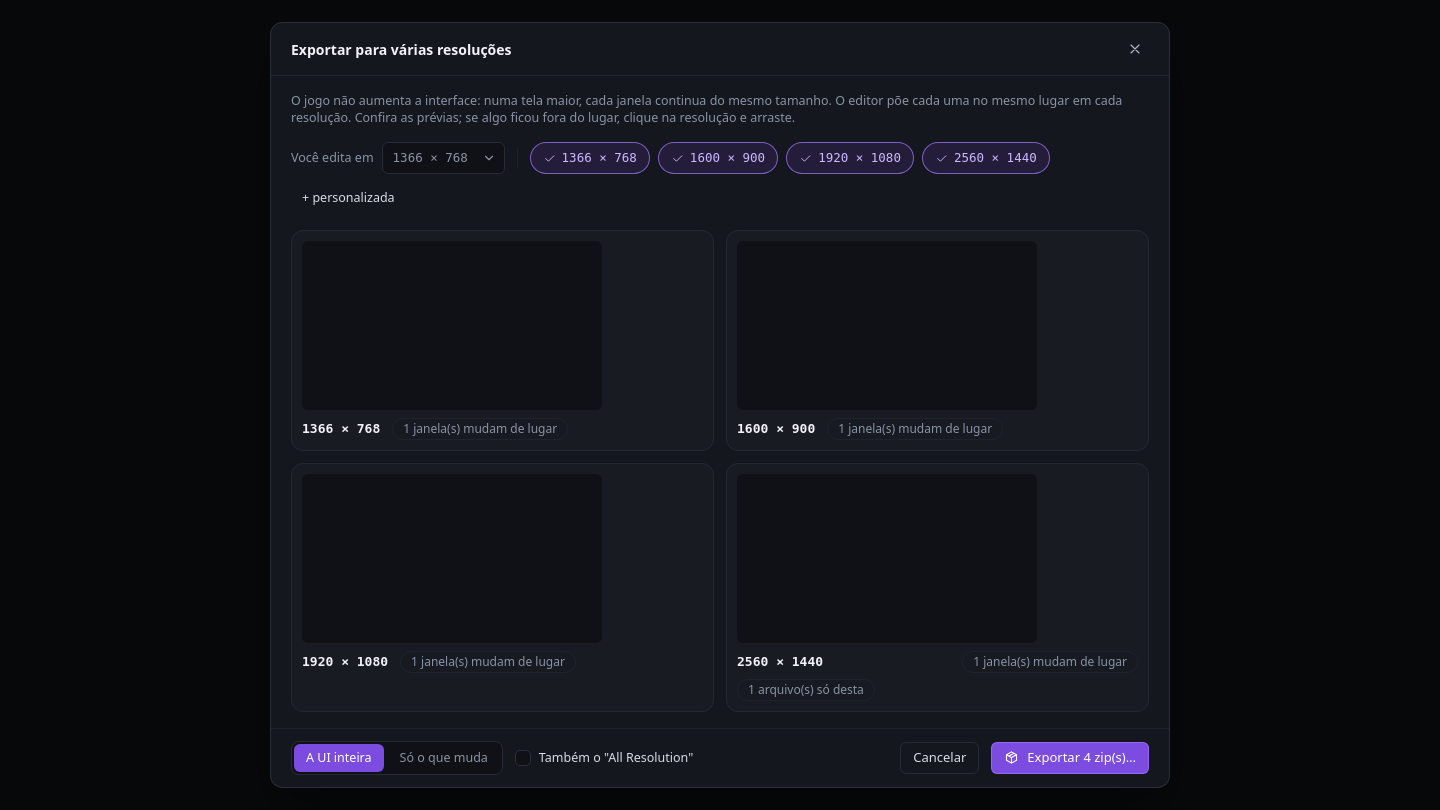
Test: exportar para várias resoluções › desmarcar e "+ personalizada" mudam as resoluções (e a escolha fica guardada)
Expected: the element with test id "resolutions-dialog" is shown, [291,92,1149,712]
Expected: the button with test id "resolution-card-2560x1440" is shown, [726,463,1149,712]
Click the button with test id "resolution-chip-1600x900". click: (718, 158)
box: [658,142,778,174]
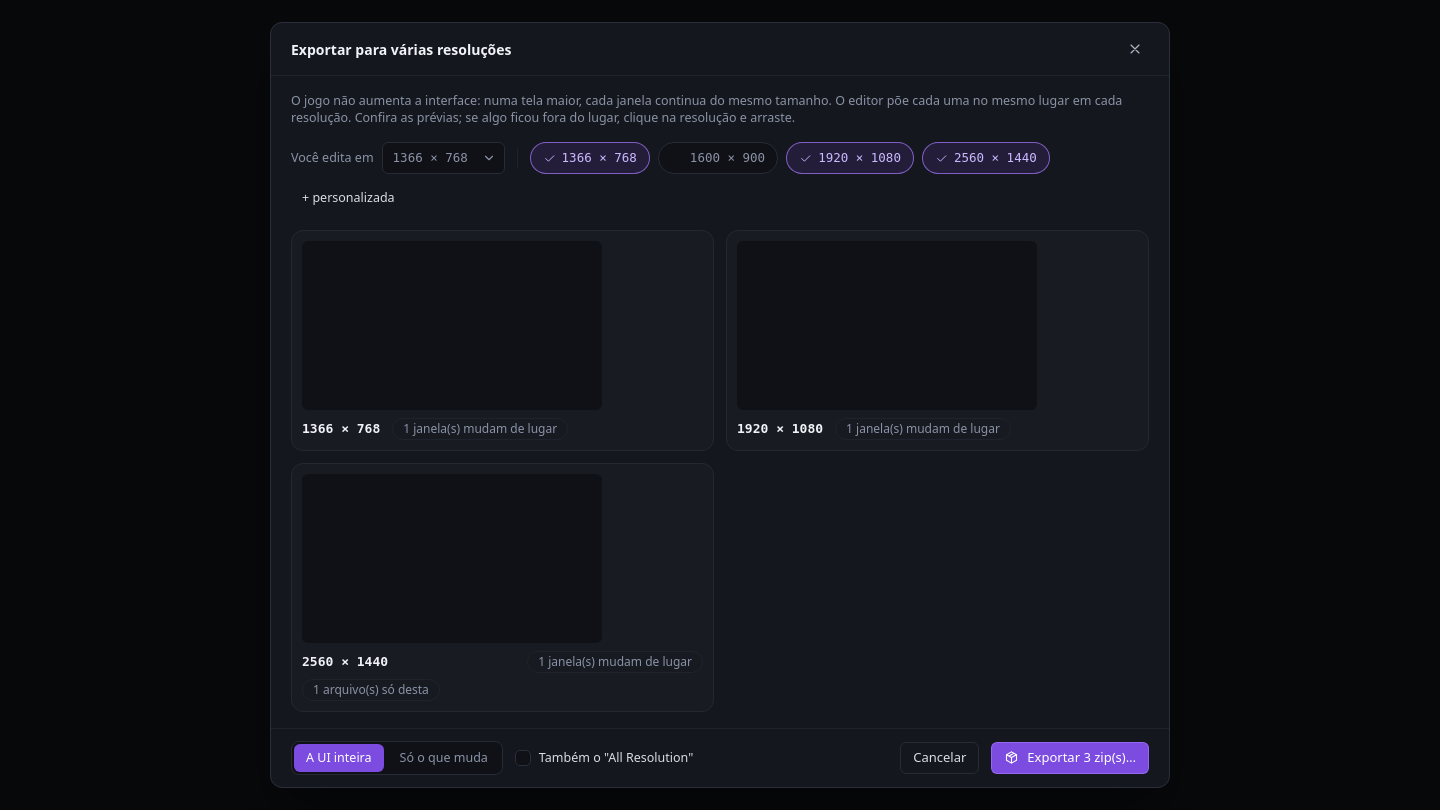
Expected: the button with test id "resolution-card-1600x900" is gone
Click the button with test id "resolution-custom". click: (348, 198)
box: [291,182,406,214]
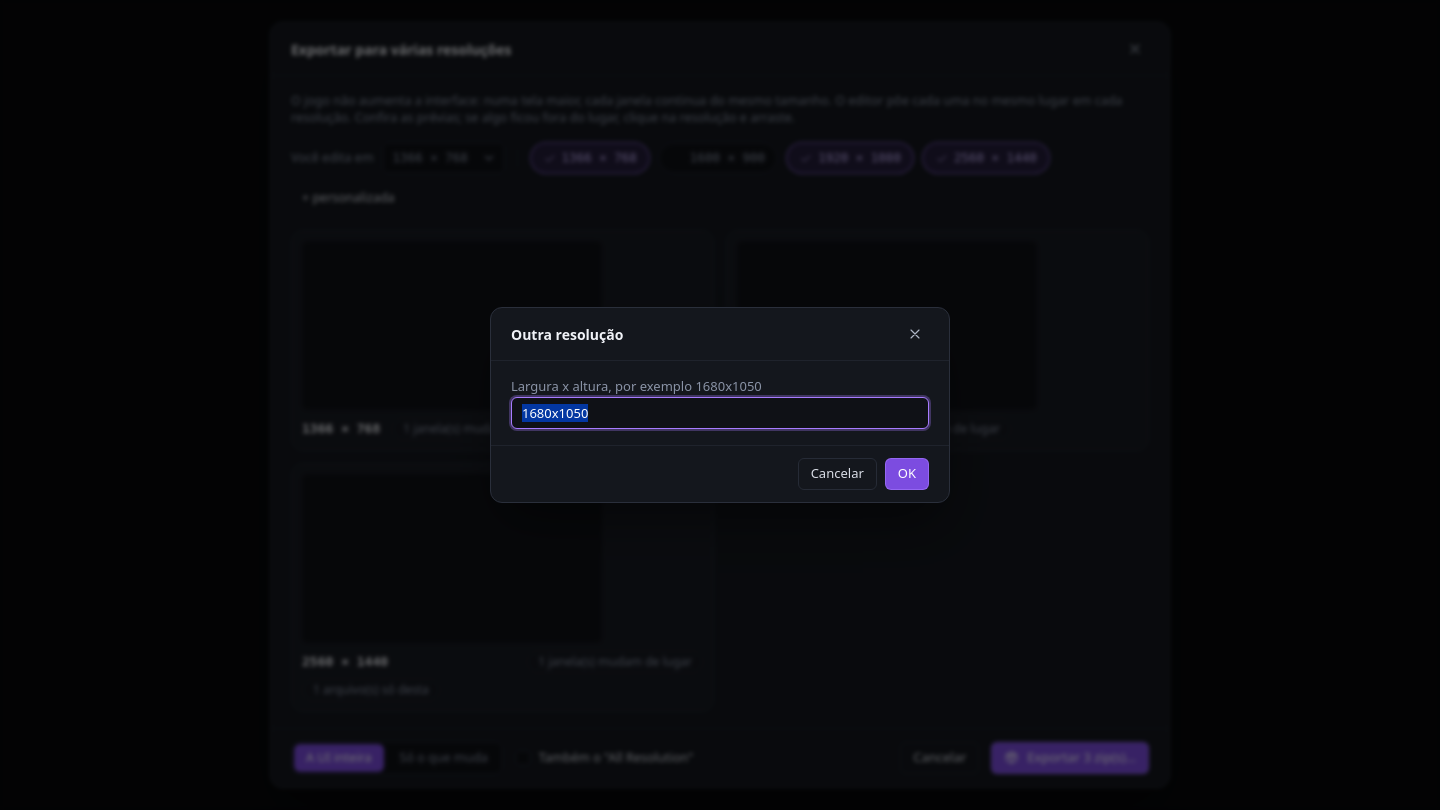
Replace the text in the field showing "1680x1050" with "1440 x 900". click: (720, 413)
box: [511,397,929,429]
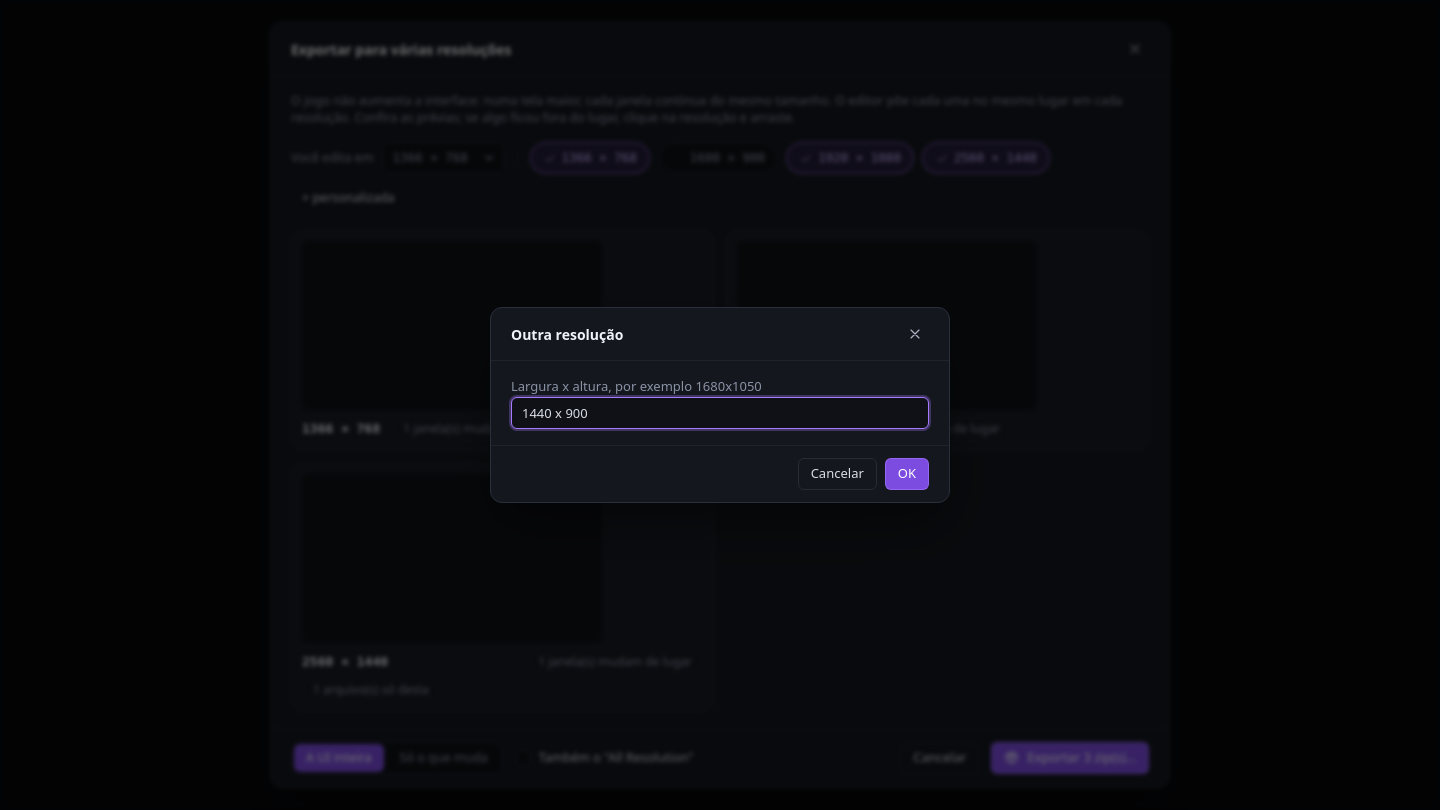
Click the button "OK". click: (907, 474)
box: [885,458,929,490]
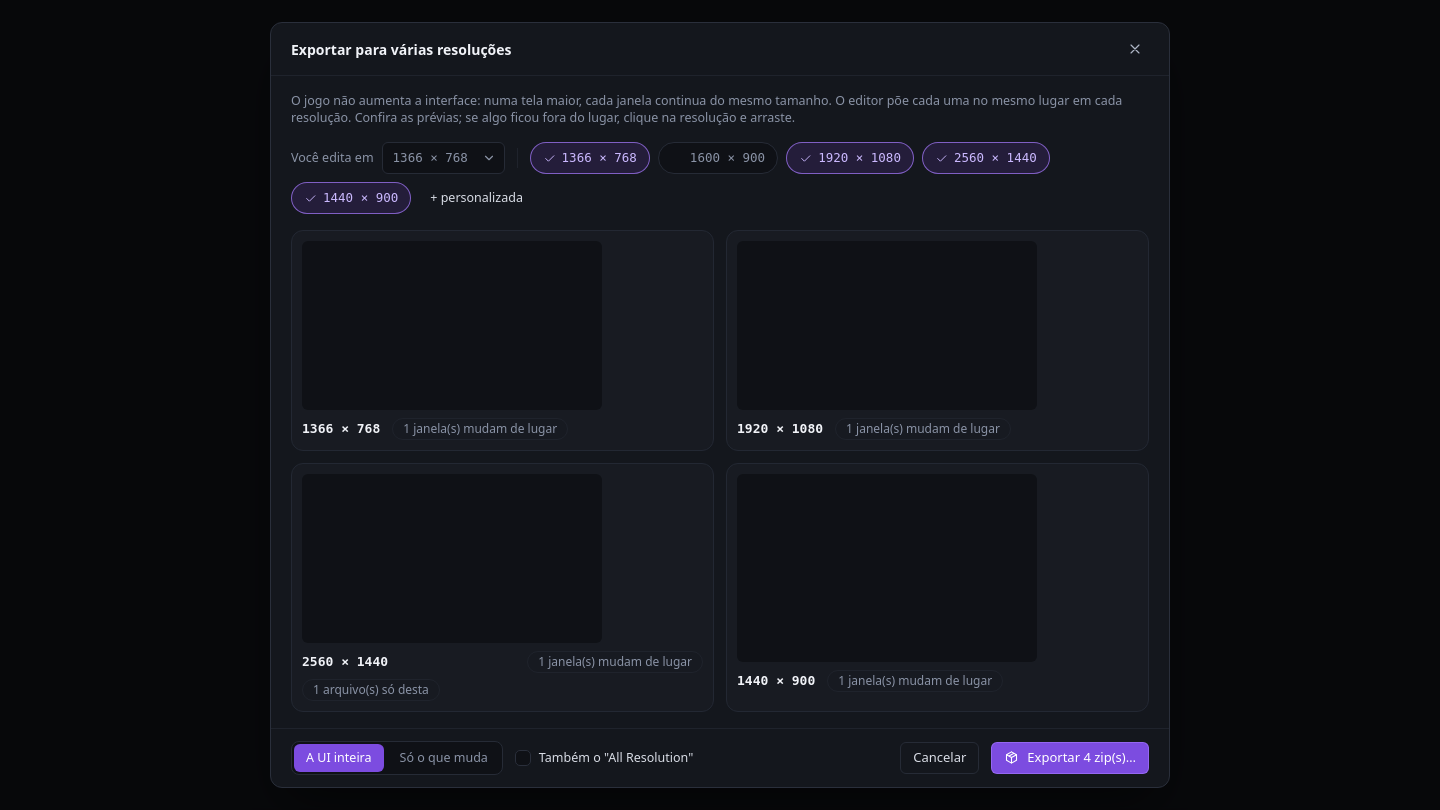
Expected: the button with test id "resolution-card-1440x900" is shown, [726,463,1149,712]
